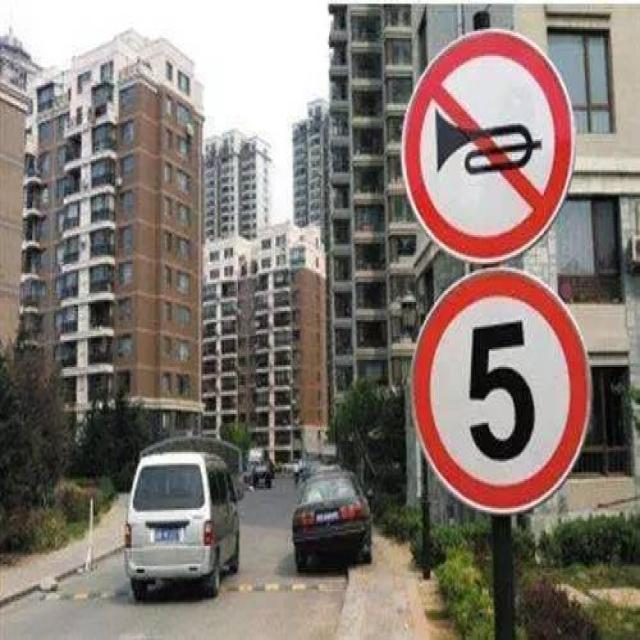speed limit 10: (413, 266, 590, 513)
